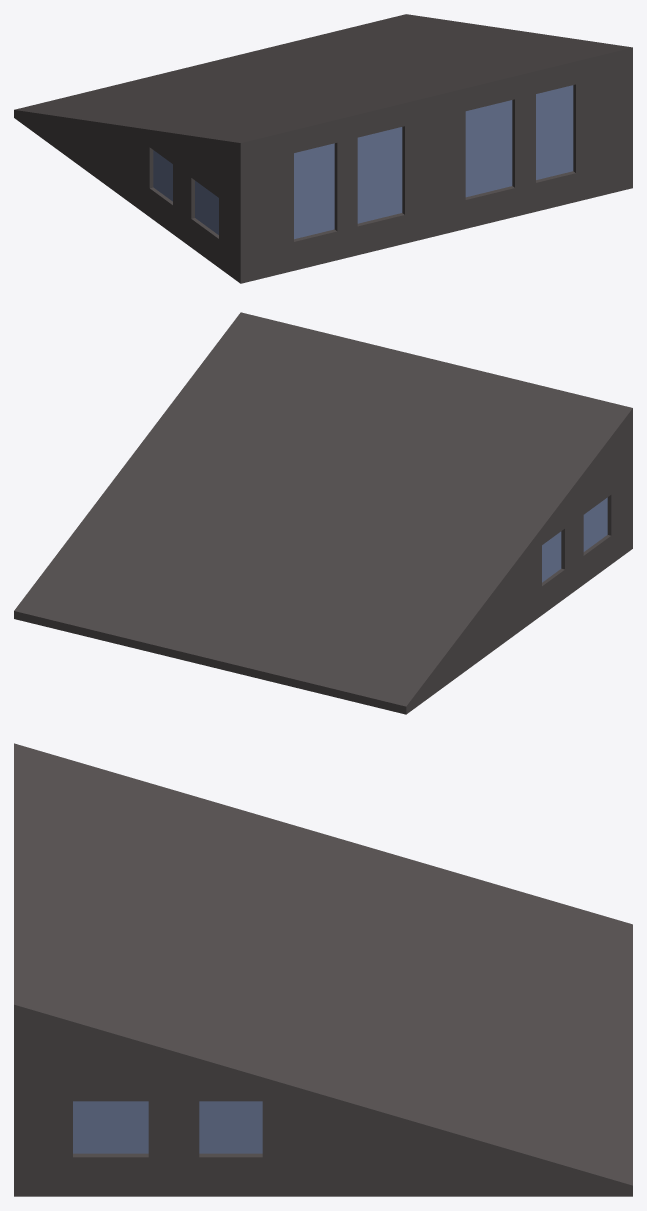
The model's file is Building Slope Roof.fbx.
3 renders of one model, top to bottom at view 1: azimuth 30°, elevation 25°; view 2: azimuth 150°, elevation 25°; view 3: azimuth 270°, elevation 25°, orthographic. The views are drawn at different scales.
Visible parts, largest first — view 1: pCube5; view 2: pCube5; view 3: pCube5.
Boxes of the visible parts, left/top/right/bottom form: pCube5: left=14, top=14, right=632, bottom=283; pCube5: left=14, top=312, right=632, bottom=714; pCube5: left=14, top=743, right=632, bottom=1196.
Bounding box in the file's own units: 9.99 × 3.42 × 10.
